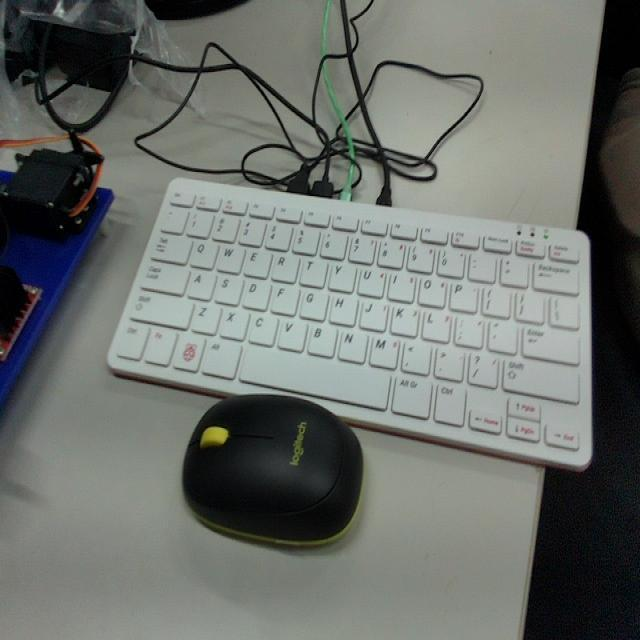keyboard: (110, 179, 586, 455)
